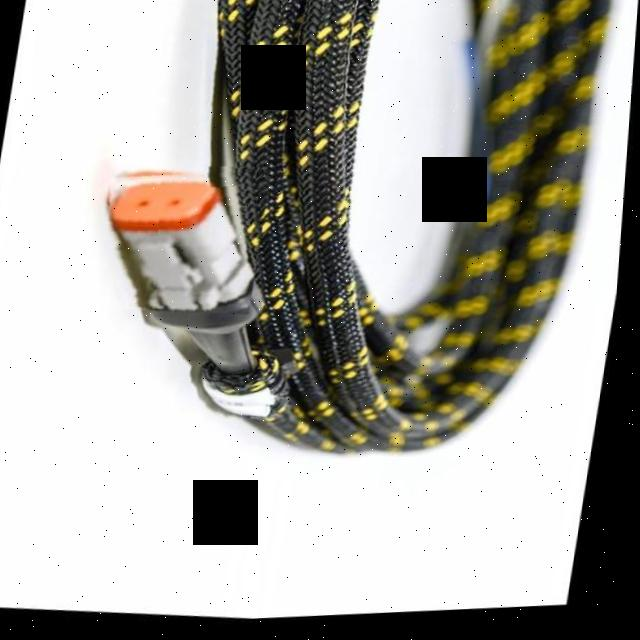connector: (111, 172, 264, 372)
